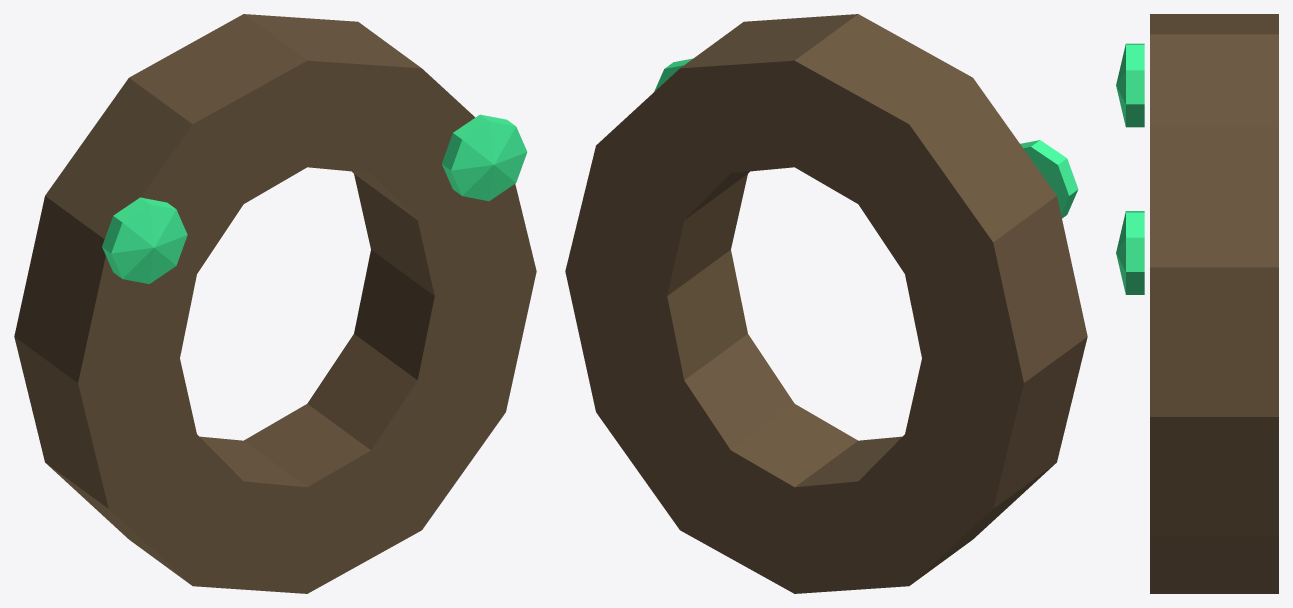
The model's file is dragon_loop.obj.
3 views of the same model, side by side, from view 1: azimuth 30°, elevation 25°; view 2: azimuth 150°, elevation 25°; view 3: azimuth 270°, elevation 25° (orthographic).
Visible parts, largest first — view 1: dragon_loop, dragon_eye_0.2, dragon_eye_-0.2; view 2: dragon_loop, dragon_eye_-0.2; view 3: dragon_loop, dragon_eye_-0.2, dragon_eye_0.2.
Boxes of the visible parts, x1,y1,x2,y2 form: dragon_loop: (14, 14, 536, 593); dragon_eye_0.2: (442, 114, 527, 201); dragon_eye_-0.2: (102, 197, 187, 283); dragon_loop: (565, 14, 1087, 593); dragon_eye_-0.2: (1020, 140, 1078, 218); dragon_loop: (1150, 14, 1278, 593); dragon_eye_-0.2: (1116, 43, 1144, 127); dragon_eye_0.2: (1116, 211, 1144, 294).
Size of the model in its own units: 0.54 by 0.6 by 0.1643.
